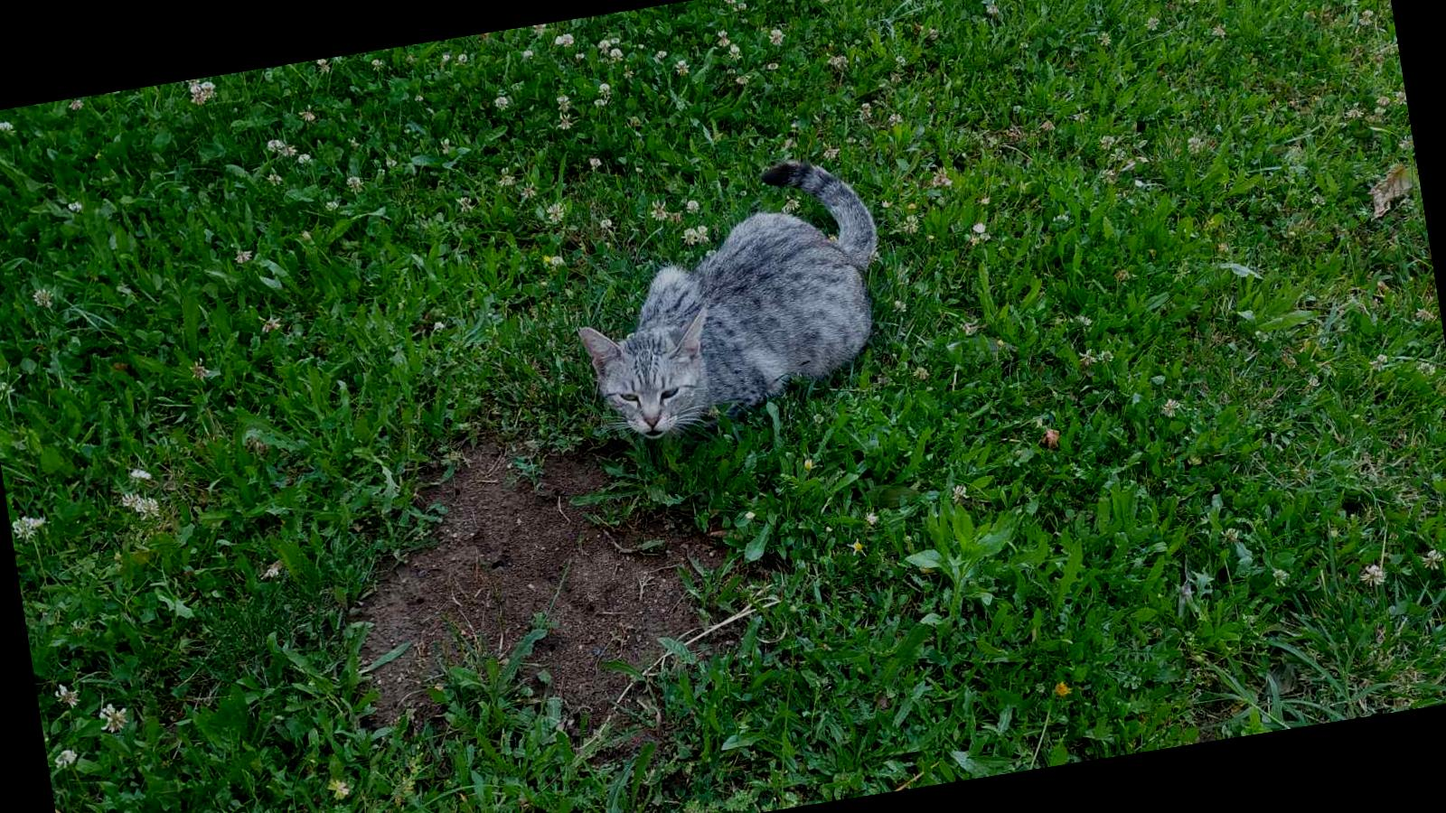macka: (554, 149, 903, 448)
